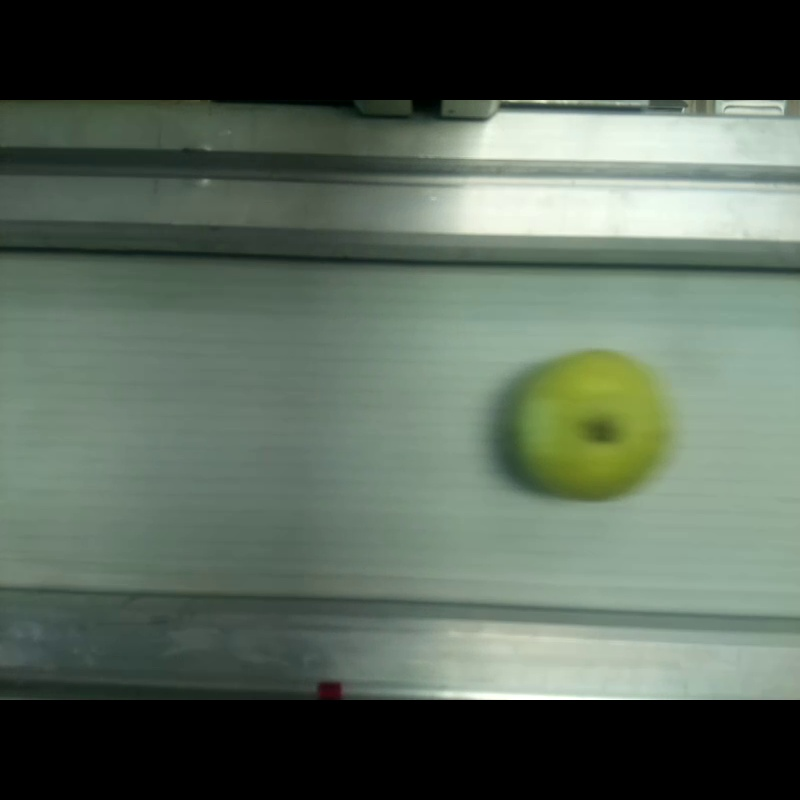lime: (515, 352, 660, 492)
